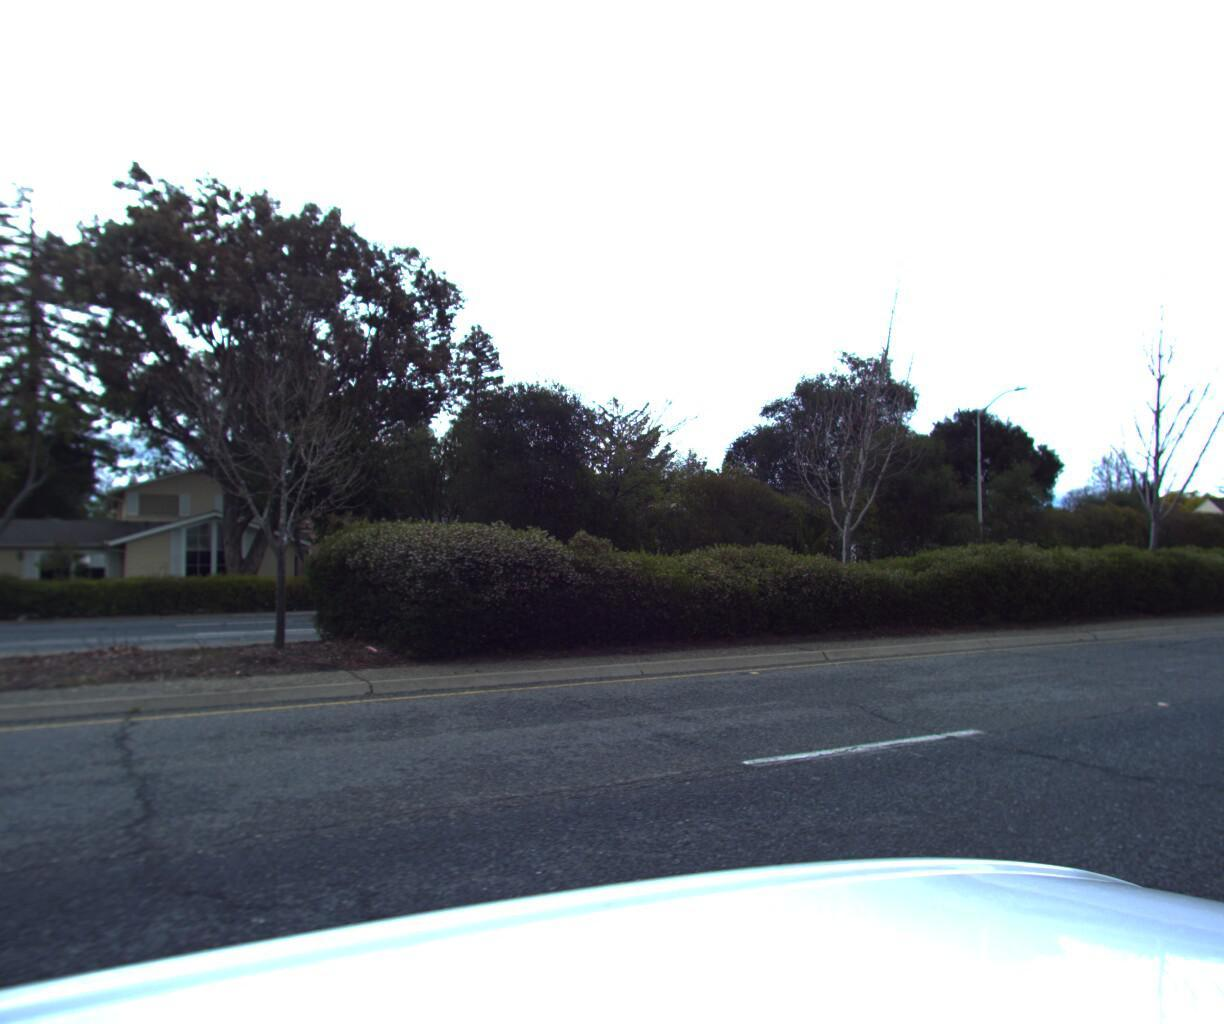car: (1213, 546, 1224, 645)
